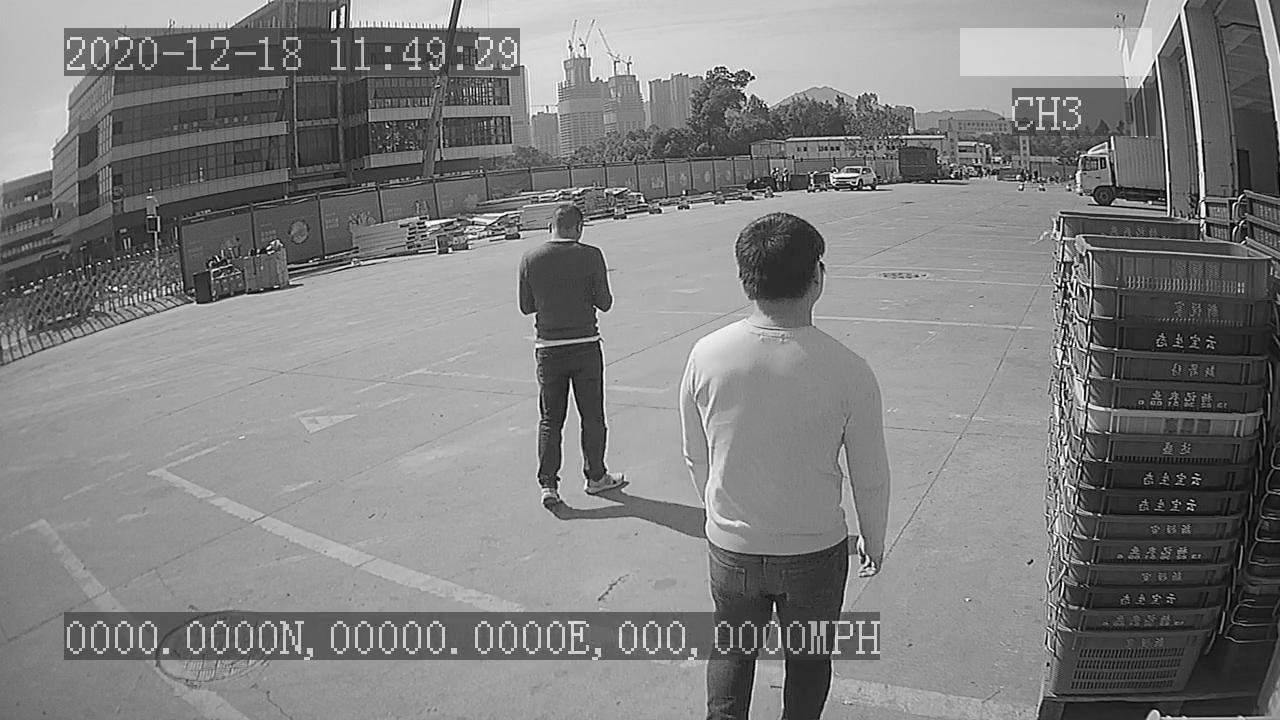person: (513, 201, 627, 513)
